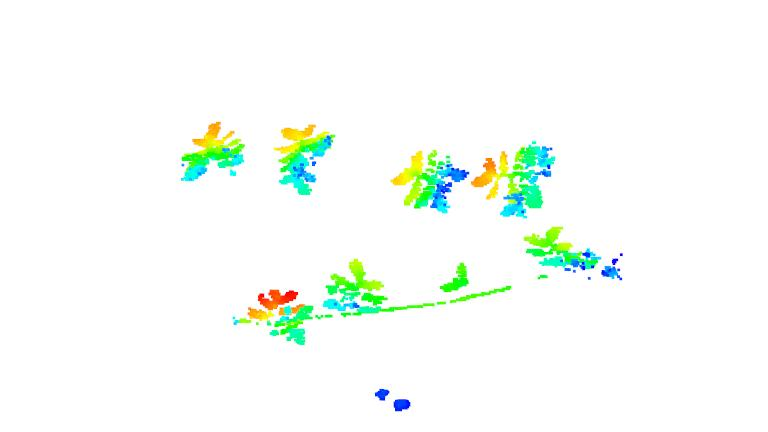chickpea: (469, 138, 557, 222), (522, 230, 624, 280), (271, 122, 338, 195), (393, 148, 468, 212), (177, 122, 249, 186), (237, 286, 310, 347), (317, 261, 390, 314), (436, 260, 476, 295)
